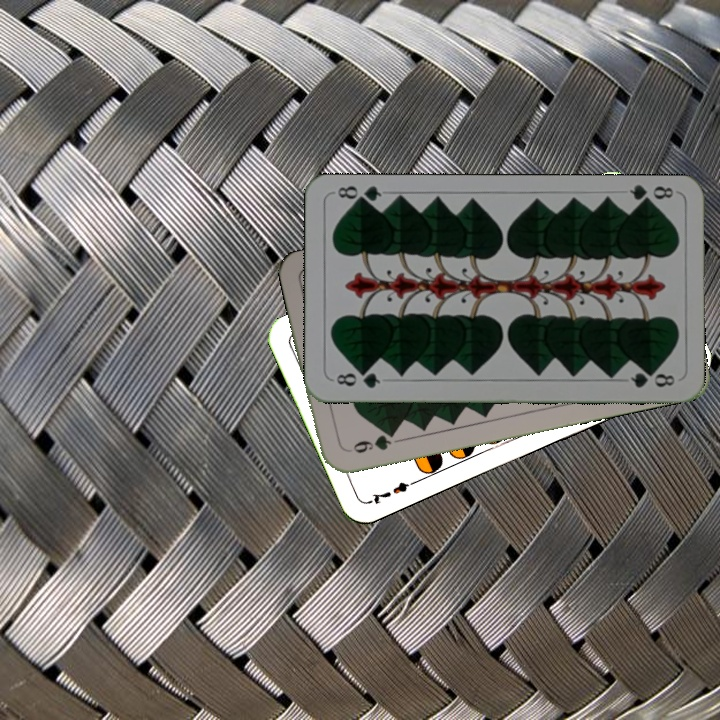E7: (366, 475, 422, 507)
G8: (626, 182, 676, 209), (329, 367, 383, 391)
G9: (342, 427, 399, 456)
